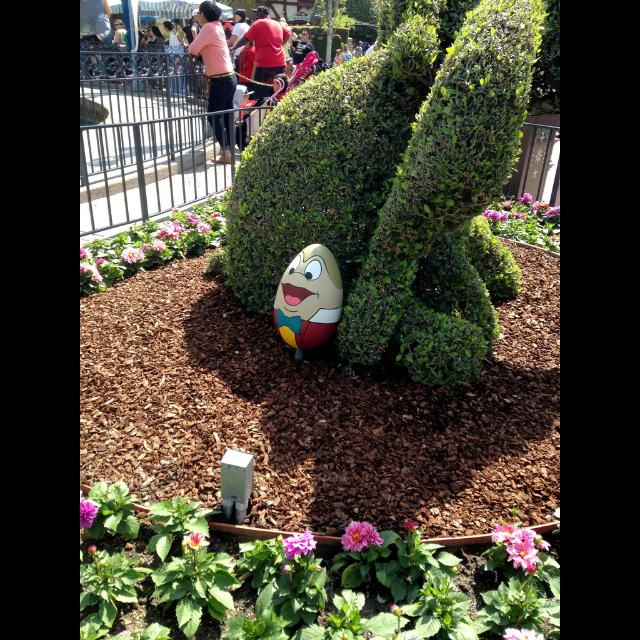Flower: (80, 202, 220, 290), (338, 522, 388, 568), (502, 538, 546, 570), (280, 530, 324, 560), (80, 494, 102, 530), (492, 520, 512, 544), (512, 526, 542, 542), (488, 205, 502, 223), (545, 206, 559, 224), (521, 191, 535, 207), (501, 210, 514, 222)
